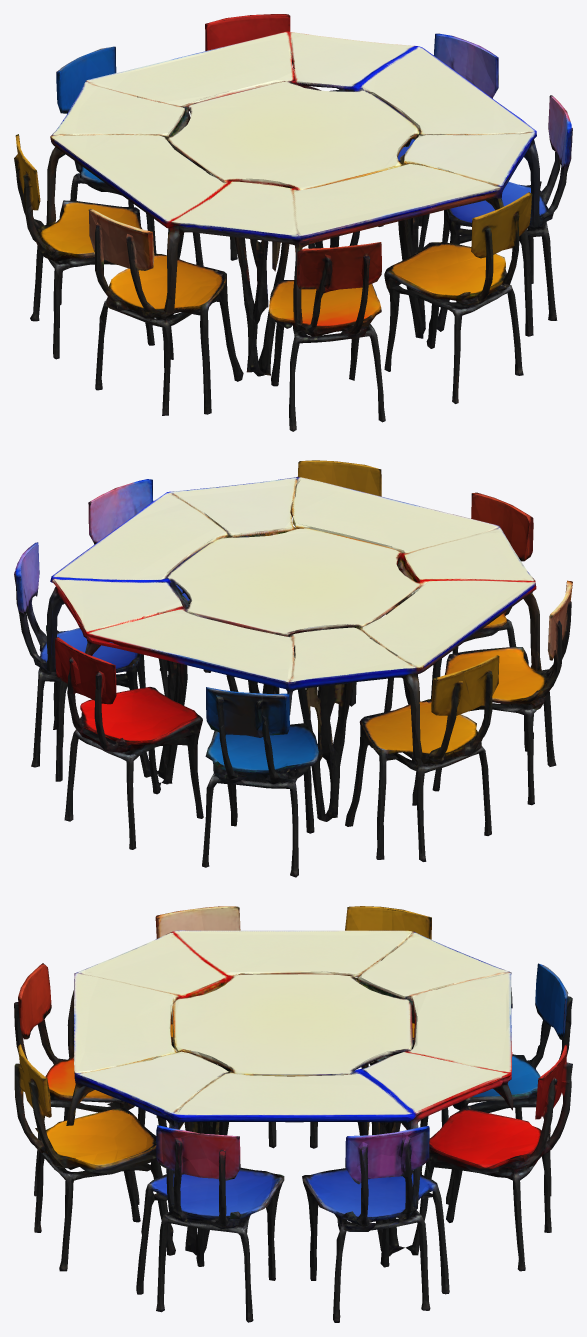
Rendered from table0.glb.
3 views of the same model, one above another, from view 1: azimuth 30°, elevation 25°; view 2: azimuth 150°, elevation 25°; view 3: azimuth 270°, elevation 25° (orthographic). The views are drawn at different scales.
Visible parts, largest first — view 1: world; view 2: world; view 3: world.
Boxes of the visible parts, x1,y1,x2,y2 form: world: [14, 14, 572, 431]; world: [14, 460, 572, 877]; world: [14, 906, 572, 1322].
Size of the model in its own units: 0.8 by 0.3113 by 0.8039.
1 material, 1 textured.
